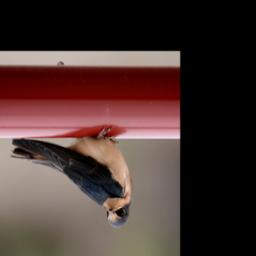Swallow: (9, 121, 133, 232)
